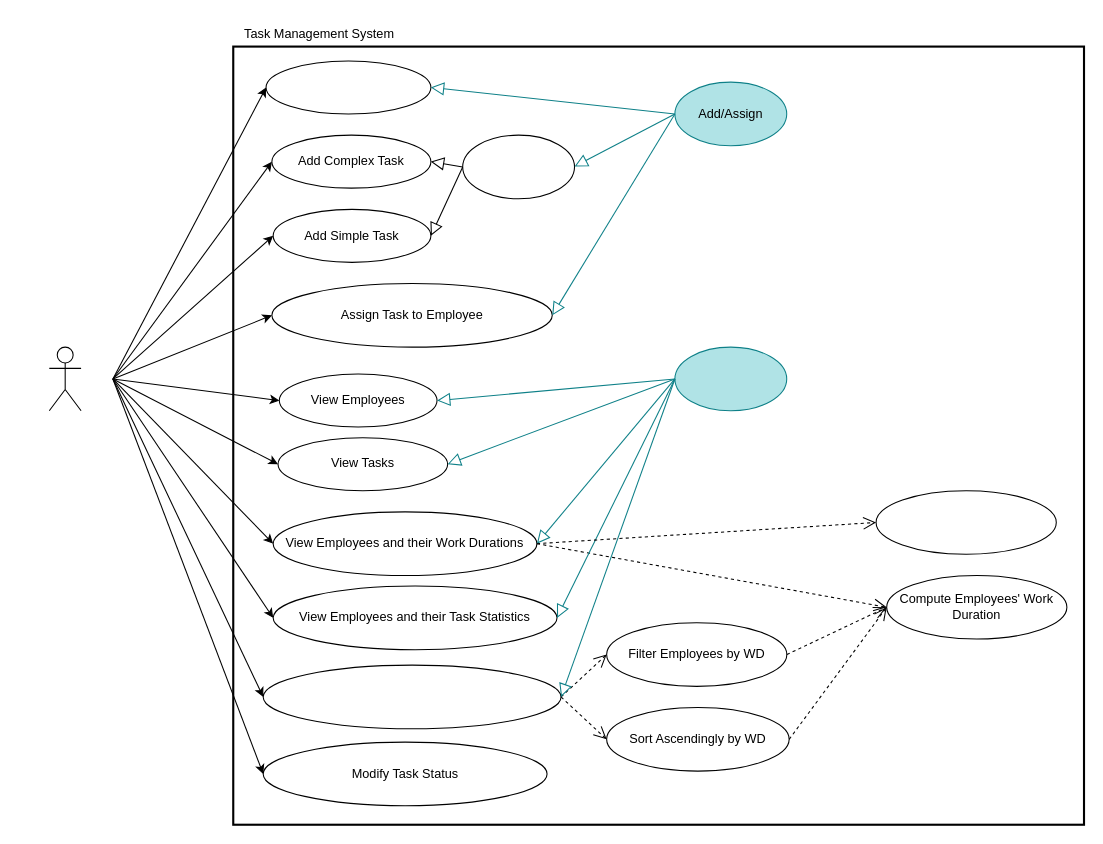
Image size: 1103x844. Some labels were removed from this diagram. Each missing label, with the box of its shape:
Add Employee: (265, 60, 431, 114)
Add Task: (462, 134, 575, 199)
Obtain Employees' Task Completion Statistics: (875, 490, 1056, 554)
Project Manager: (48, 346, 81, 411)
View: (674, 346, 787, 411)
VIew Employees with WD > 40: (262, 664, 561, 729)
